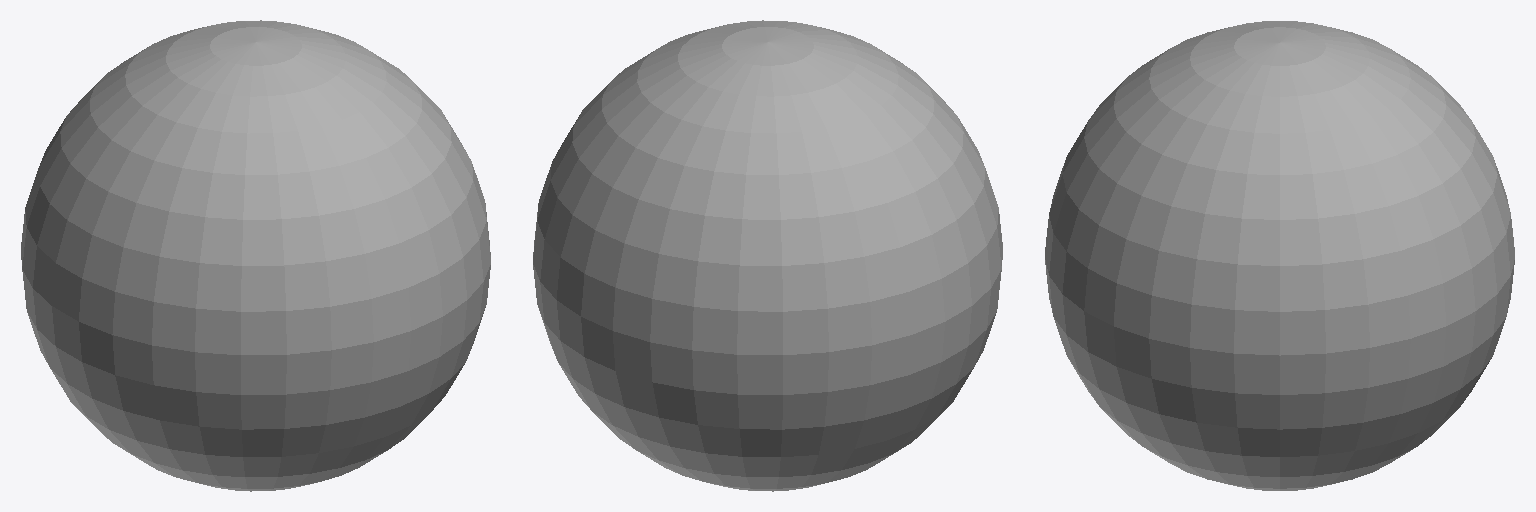
URDF robot description (kuka_iiwa):
<?xml version="1.0" ?>
<!--Autogenerated by "taco/models/sdf2urdf" converter from "../kuka_iiwa/kuka_iiwa.sdf"-->
<robot name="kuka_iiwa">
    <link name="base_link">
        <inertial>
            <origin xyz="0 0 0.14" rpy="0 -0 0" />
            <mass value="4" />
            <inertia ixx="0.4" iyy="0.4" izz="0.4" ixy="0" ixz="0" iyz="0" />
        </inertial>
        <visual>
            <origin xyz="0 0 0" rpy="0 -0 0" />
            <geometry>
                <mesh filename="../../../Model/meshes_iiwa/base.obj" scale="1 1 1" />
            </geometry>
        </visual>
        <!-- <collision>
            <origin xyz="0 0 0" rpy="0 -0 0" />
            <geometry>
                <mesh filename="../../../Model/meshes_iiwa/base.obj" scale="1 1 1" />
            </geometry>
        </collision> -->
    </link>
    <link name="link0">
        <inertial>
            <origin xyz="0 0 0.14" rpy="0 -0 0" />
            <mass value="4" />
            <inertia ixx="0.4" iyy="0.4" izz="0.4" ixy="0" ixz="0" iyz="0" />
        </inertial>
        <visual>
            <origin xyz="0 0 0" rpy="0 -0 0" />
            <geometry>
                <mesh filename="../../../Model/meshes_iiwa/link0.obj" scale="1 1 1" />
            </geometry>
        </visual>
        <!-- <collision>
            <origin xyz="0 0 0" rpy="0 -0 0" />
            <geometry>
                <mesh filename="../../../Model/meshes_iiwa/link0.obj" scale="1 1 1" />
            </geometry>
        </collision> -->
    </link>
    <link name="link1">
        <inertial>
            <origin xyz="0 0 0.14" rpy="0 -0 0" />
            <mass value="4" />
            <inertia ixx="0.4" iyy="0.4" izz="0.4" ixy="0" ixz="0" iyz="0" />
        </inertial>
        <visual>
            <origin xyz="0 0 0" rpy="0 -0 0" />
            <geometry>
                <mesh filename="../../../Model/meshes_iiwa/link1.obj" scale="1 1 1" />
            </geometry>
        </visual>
        <!-- <collision>
            <origin xyz="0 0 0" rpy="0 -0 0" />
            <geometry>
                <mesh filename="../../../Model/meshes_iiwa/link1.obj" scale="1 1 1" />
            </geometry>
        </collision> -->
    </link>
    <link name="link2">
        <inertial>
            <origin xyz="0 0 0.14" rpy="0 -0 0" />
            <mass value="4" />
            <inertia ixx="0.4" iyy="0.4" izz="0.4" ixy="0" ixz="0" iyz="0" />
        </inertial>
        <visual>
            <origin xyz="0 0 0" rpy="0 -0 0" />
            <geometry>
                <mesh filename="../../../Model/meshes_iiwa/link2.obj" scale="1 1 1" />
            </geometry>
        </visual>
        <!-- <collision>
            <origin xyz="0 0 0" rpy="0 -0 0" />
            <geometry>
                <mesh filename="../../../Model/meshes_iiwa/link2.obj" scale="1 1 1" />
            </geometry>
        </collision> -->
    </link>
    <link name="link3">
        <inertial>
            <origin xyz="0 0 0.14" rpy="0 0 0" />
            <mass value="4" />
            <inertia ixx="0.4" iyy="0.4" izz="0.4" ixy="0" ixz="0" iyz="0" />
        </inertial>
        <visual>
            <origin xyz="0 0 0" rpy="0 0 3.1415926535897" />
            <geometry>
                <mesh filename="../../../Model/meshes_iiwa/link3.obj" scale="1 1 1" />
            </geometry>
        </visual>
        <!-- <collision>
            <origin xyz="0 0 0" rpy="0 -0 0" />
            <geometry>
                <mesh filename="../../../Model/meshes_iiwa/link3.obj" scale="1 1 1" />
            </geometry>
        </collision> -->
    </link>
    <link name="link4">
        <inertial>
            <origin xyz="0 0 0.14" rpy="0 0 0" />
            <mass value="3" />
            <inertia ixx="0.3" iyy="0.3" izz="0.3" ixy="0" ixz="0" iyz="0" />
        </inertial>
        <visual>
            <origin xyz="0 0 0" rpy="0 0 0" />
            <geometry>
                <mesh filename="../../../Model/meshes_iiwa/link4.obj" scale="1 1 1" />
            </geometry>
        </visual>
        <!-- <collision>
            <origin xyz="0 0 0" rpy="0 -0 0" />
            <geometry>
                <mesh filename="../../../Model/meshes_iiwa/link4.obj" scale="1 1 1" />
            </geometry>
        </collision> -->
    </link>
    <link name="link5">
        <inertial>
            <origin xyz="0 0 0.14" rpy="0 0 0" />
            <mass value="2" />
            <inertia ixx="0.2" iyy="0.2" izz="0.2" ixy="0" ixz="0" iyz="0" />
        </inertial>
        <visual>
            <origin xyz="0 -0.06 0" rpy="0 0 0" />
            <geometry>
                <mesh filename="../../../Model/meshes_iiwa/link5.obj" scale="1 1 1" />
            </geometry>
        </visual>
        <!-- <collision>
            <origin xyz="0 -0.06 0" rpy="0 -0 0" />
            <geometry>
                <mesh filename="../../../Model/meshes_iiwa/link5.obj" scale="1 1 1" />
            </geometry>
        </collision> -->
    </link>
    <link name="link6">
        <inertial>
            <origin xyz="0 0 0.03" rpy="0 0 0" />
            <mass value="1" />
            <inertia ixx="0.1" iyy="0.1" izz="0.1" ixy="0" ixz="0" iyz="0" />
        </inertial>
        <visual>
            <origin xyz="0 0 0" rpy="0 0 0" />
            <geometry>
                <mesh filename="../../../Model/meshes_iiwa/link6.obj" scale="1 1 1" />
            </geometry>
        </visual>
        <visual>
            <origin xyz="0 0 0.05" rpy="0 0 0"/>
            <geometry>
                <sphere radius="0.03" />
            </geometry>
        </visual>
        <collision>
            <origin xyz="0 0 0.05" rpy="0 0 0"/>
            <geometry>
                <sphere radius="0.03" />
            </geometry>
        </collision>
<!--         <collision>
            <origin xyz="0 0 0" rpy="0 0 0" />
            <geometry>
                <mesh filename="../../../Model/meshes_iiwa/link6.obj" scale="1 1 1" />
            </geometry>
        </collision> -->
    </link>
    <joint name="j0" type="revolute">
        <parent link="base_link" />
        <child link="link0" />
        <origin xyz="0.000000 0.000000 0.155767" rpy="0.000000 0.000000 0.000000" />
        <axis xyz="0 0 1" />
        <limit lower="-2.967" upper="2.967" effort="176" velocity="1.7104" />
    </joint>
    <joint name="j1" type="revolute">
        <parent link="link0" />
        <child link="link1" />
        <origin xyz="0.000000 0.000000 0.182500" rpy="0.000000 0.000000 0.000000" />
        <axis xyz="0 1 0" />
        <limit lower="-2.0944" upper="2.0944" effort="176" velocity="1.7104" />
    </joint>
    <joint name="j2" type="revolute">
        <parent link="link1" />
        <child link="link2" />
        <origin xyz="0.000000 0.000000 0.185000" rpy="0.000000 0.000000 0.000000" />
        <axis xyz="0 0 1" />
        <limit lower="-2.967" upper="2.967" effort="110" velocity="1.7453" />
    </joint>
    <joint name="j3" type="revolute">
        <parent link="link2" />
        <child link="link3" />
        <origin xyz="0.000000 0.000000 0.217000" rpy="0.000000 0.000000 3.1415926535897" />
        <axis xyz="0 1 0" />
        <limit lower="-2.0944" upper="2.0944" effort="110" velocity="2.2689" />
    </joint>
    <joint name="j4" type="revolute">
        <parent link="link3" />
        <child link="link4" />
        <origin xyz="0.000000 0.000000 0.186000" rpy="0.000000 0.000000 -3.1415926535897" />
        <axis xyz="0 0 1" />
        <limit lower="-2.967" upper="2.967" effort="110" velocity="2.4434" />
    </joint>
    <joint name="j5" type="revolute">
        <parent link="link4" />
        <child link="link5" />
        <origin xyz="0.000000 0.000000 0.217003" rpy="0.000000 0.000000 0.000000" />
        <axis xyz="0 1 0" />
        <limit lower="-2.0944" upper="2.0944" effort="40" velocity="3.1416" />
    </joint>
    <joint name="j6" type="revolute">
        <parent link="link5" />
        <child link="link6" />
        <origin xyz="0.000000 0.000000 0.081000" rpy="0.000000 0.000000 0.000000" />
        <axis xyz="0 0 1" />
        <limit lower="-3.0543" upper="3.0543" effort="40" velocity="3.1416" />
    </joint>
</robot>

--- Render facts (derived) ---
Views: 3 orthographic renders of the robot side by side, from view 1: azimuth 30°, elevation 25°; view 2: azimuth 150°, elevation 25°; view 3: azimuth 270°, elevation 25°.
Model kuka_iiwa with 8 links and 7 joints (7 revolute), rooted at base_link, posed every joint at zero.
Links seen in each view (by area): view 1: link6; view 2: link6; view 3: link6.
Link boxes in pixels (bbox=[...]): link6: bbox=[21, 20, 490, 491]; link6: bbox=[533, 20, 1002, 491]; link6: bbox=[1045, 21, 1514, 490].
Size in the robot's own frame: 0.06 by 0.06 by 0.06 metres.
Geometry: only primitive shapes (box / cylinder / sphere) drawn; not drawn: 8 mesh visuals (reference in a form the renderer does not follow).